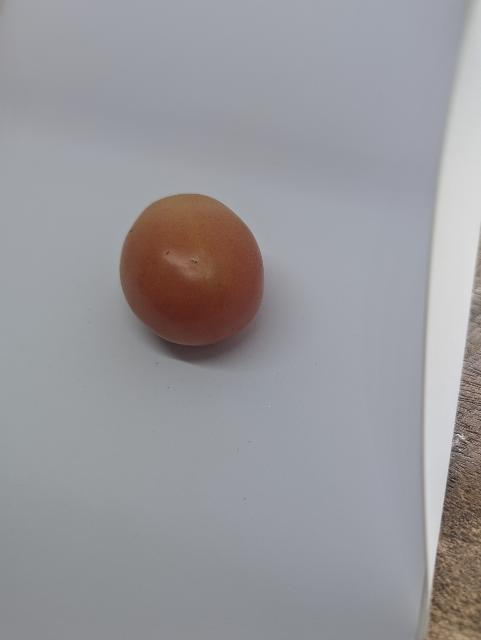red: (115, 180, 282, 358)
